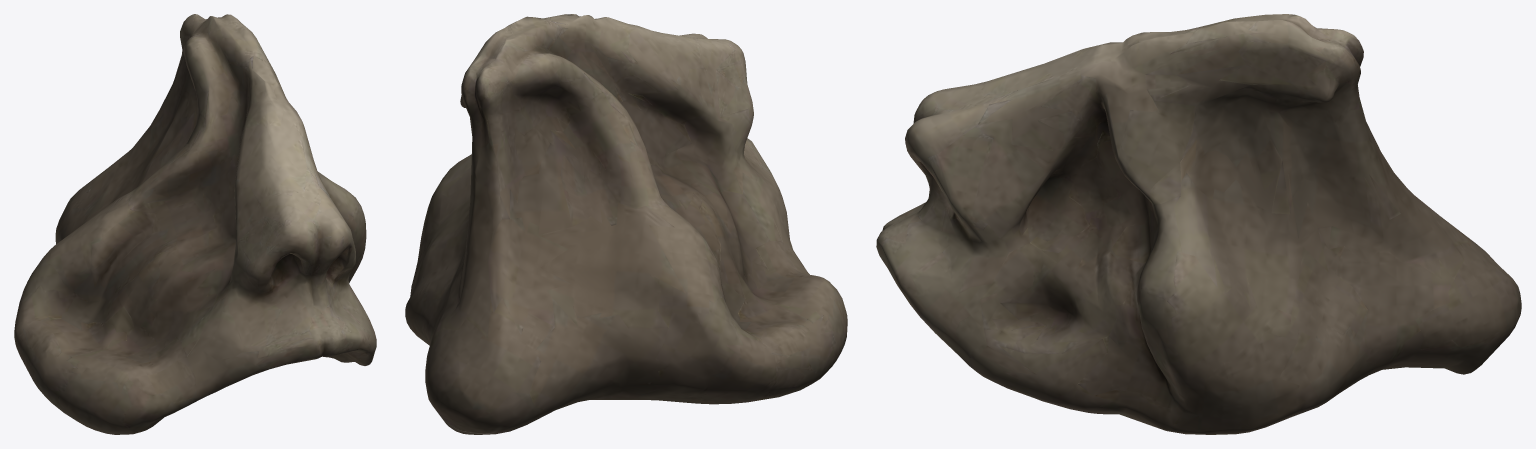
The model's file is nose.glb.
The picture shows the model from 3 angles, left to right: view 1: azimuth 30°, elevation 25°; view 2: azimuth 150°, elevation 25°; view 3: azimuth 270°, elevation 25°; orthographic projection. The views are drawn at different scales.
Parts seen in each view (by area): view 1: Mesh_0; view 2: Mesh_0; view 3: Mesh_0.
Part boxes in pixels (box(x1,y1,x2,y2)): Mesh_0: box(14, 14, 376, 434); Mesh_0: box(405, 14, 847, 434); Mesh_0: box(876, 14, 1521, 434).
Bounding box in the file's own units: 1.45 × 1.34 × 1.9.
1 material, 1 textured.
